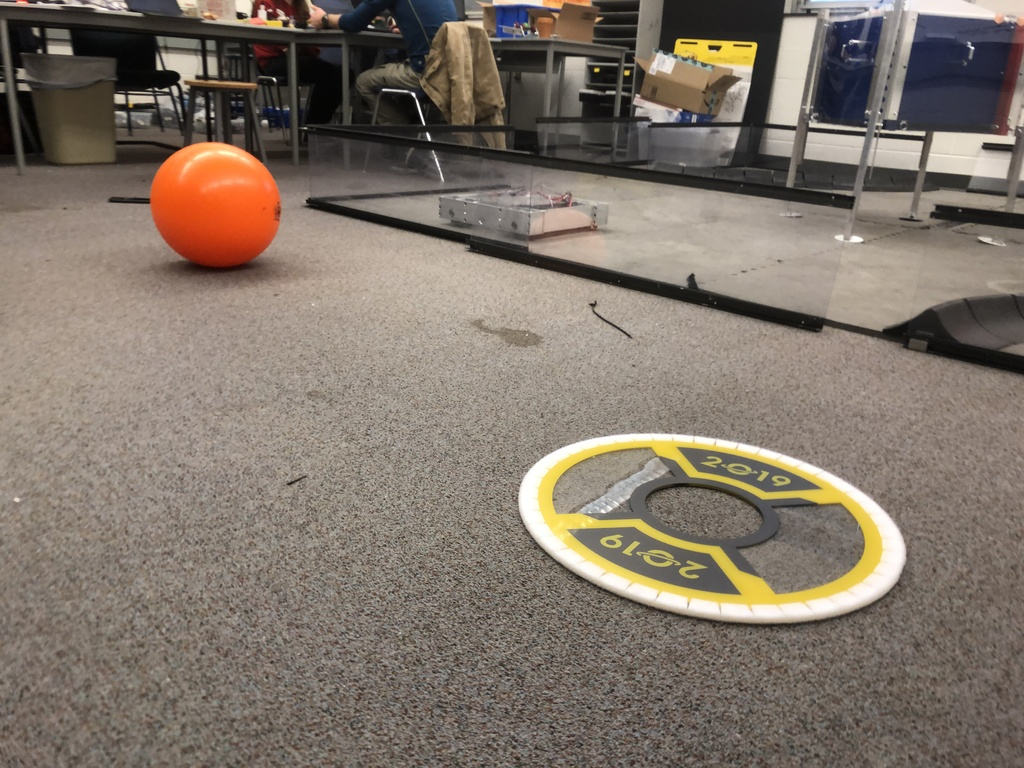hatch_panel: (493, 417, 940, 630)
